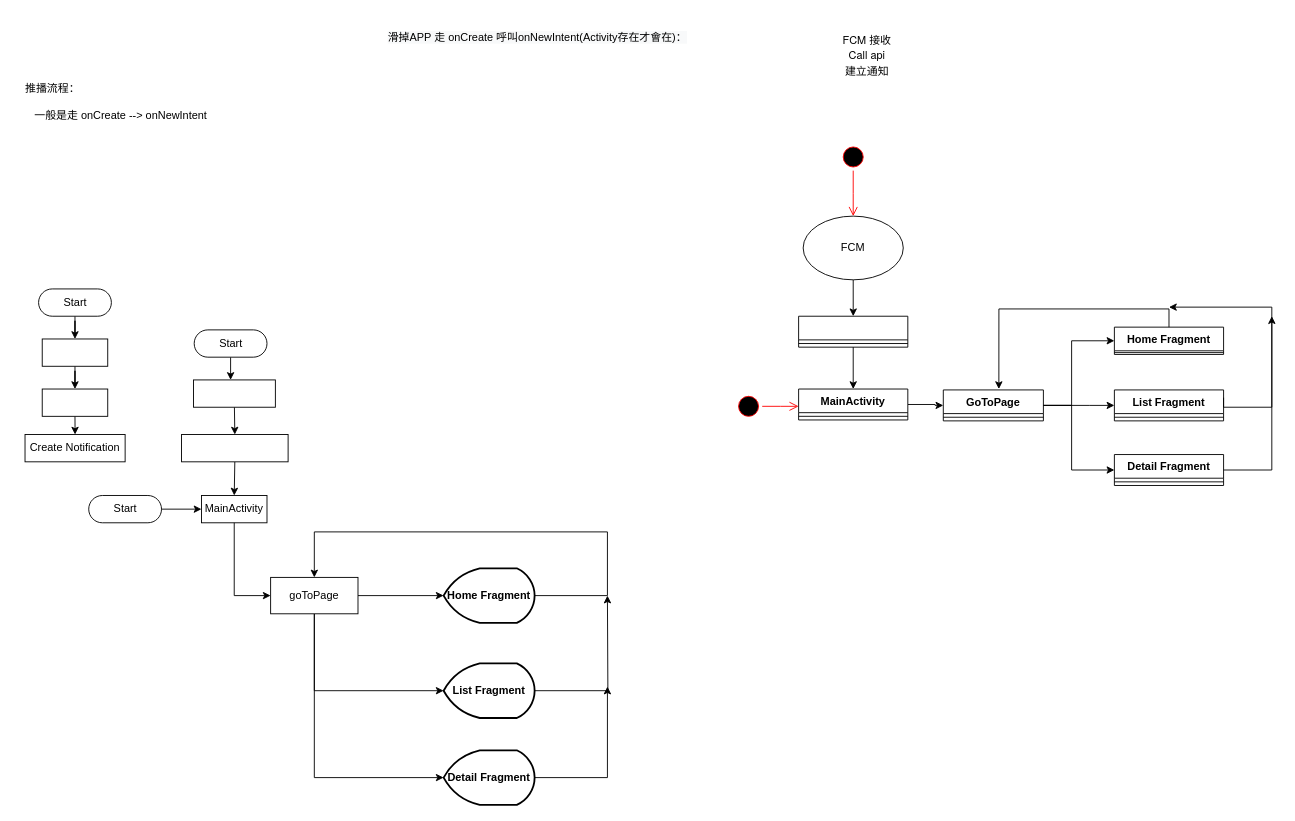
Some shapes in this 1295 by 821 pixel diagram are drawn without their labels. The centre of each missing label's shape, as x and y in pixels:
"Broadcast" belongs at [853,331].
"BroadcastReceiver" belongs at [234,448].
"Call API" belongs at [74,402].
"FCM 接收" belongs at [74,352].
"點擊通知" belongs at [234,393].
